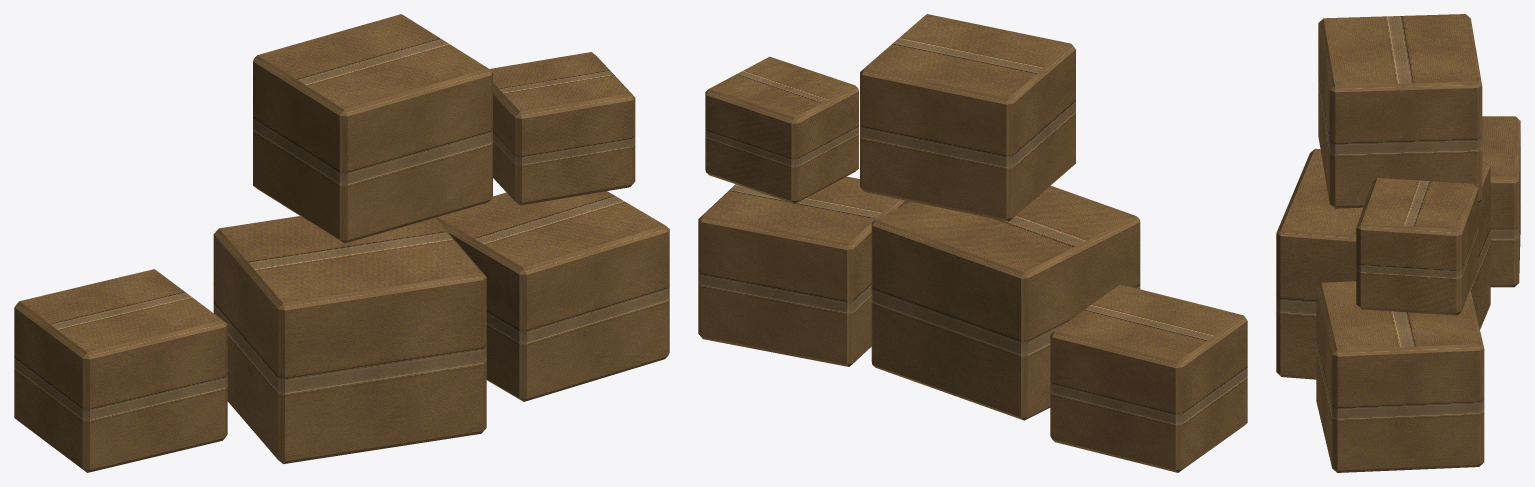
File: int_boxes.glb
3 views of the same model, side by side, from view 1: azimuth 30°, elevation 25°; view 2: azimuth 150°, elevation 25°; view 3: azimuth 270°, elevation 25° (orthographic). The views are drawn at different scales.
Visible parts, largest first — view 1: int_boxes_mesh; view 2: int_boxes_mesh; view 3: int_boxes_mesh.
Part boxes in pixels (x1,y1,x2,y2): int_boxes_mesh: [14, 14, 669, 472]; int_boxes_mesh: [698, 14, 1247, 472]; int_boxes_mesh: [1276, 14, 1520, 472].
Size of what is drawn, in the model's own units: 1.75 by 1 by 0.7204.
Materials: 1 (1 with a texture image).
